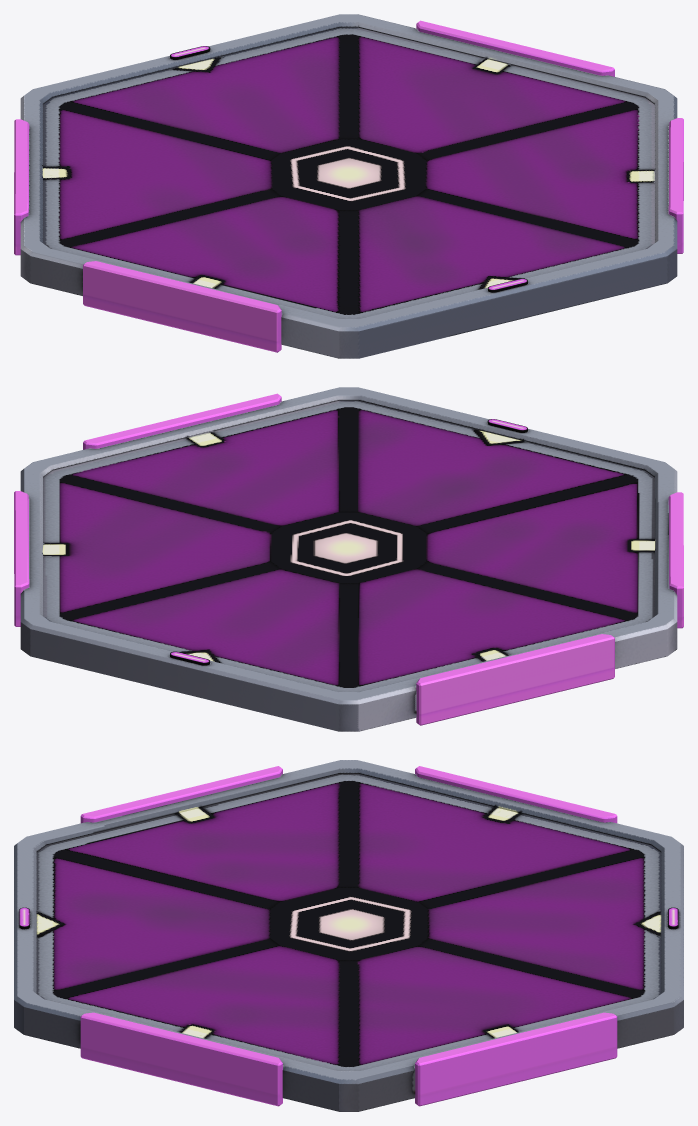
Rendered from HexagonPlatformLarge01_Art.glb.
The picture shows the model from 3 angles, top to bottom: view 1: azimuth 30°, elevation 25°; view 2: azimuth 150°, elevation 25°; view 3: azimuth 270°, elevation 25°; orthographic projection. The views are drawn at different scales.
Parts seen in each view (by area): view 1: HexagonPlatformLarge01_Art; view 2: HexagonPlatformLarge01_Art; view 3: HexagonPlatformLarge01_Art.
Part boxes in pixels (x1=…): HexagonPlatformLarge01_Art: x1=14, y1=14, x2=683, y2=358; HexagonPlatformLarge01_Art: x1=14, y1=387, x2=683, y2=731; HexagonPlatformLarge01_Art: x1=14, y1=760, x2=683, y2=1111.
Bounding box in the file's own units: 17.73 × 1.1 × 15.59.
1 material, 1 textured.
